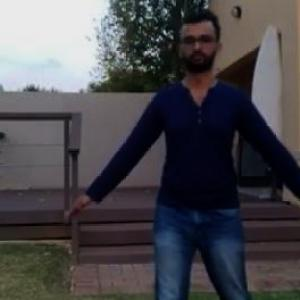land: (95, 40, 295, 299)
